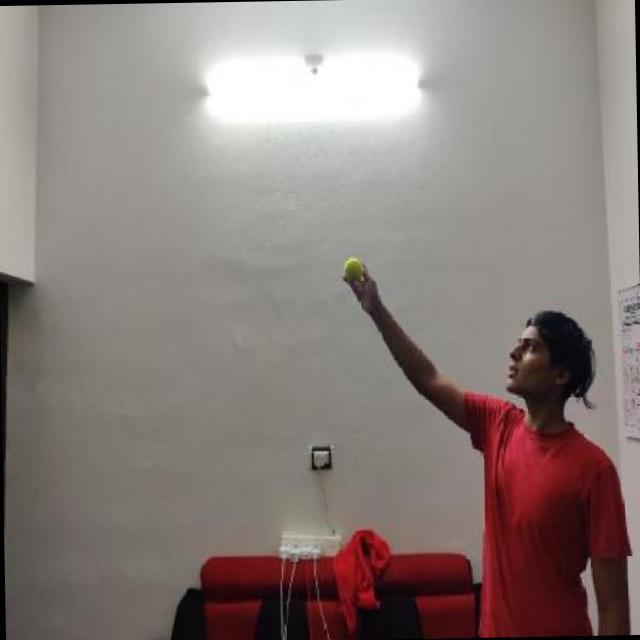-: (326, 250, 379, 298)
